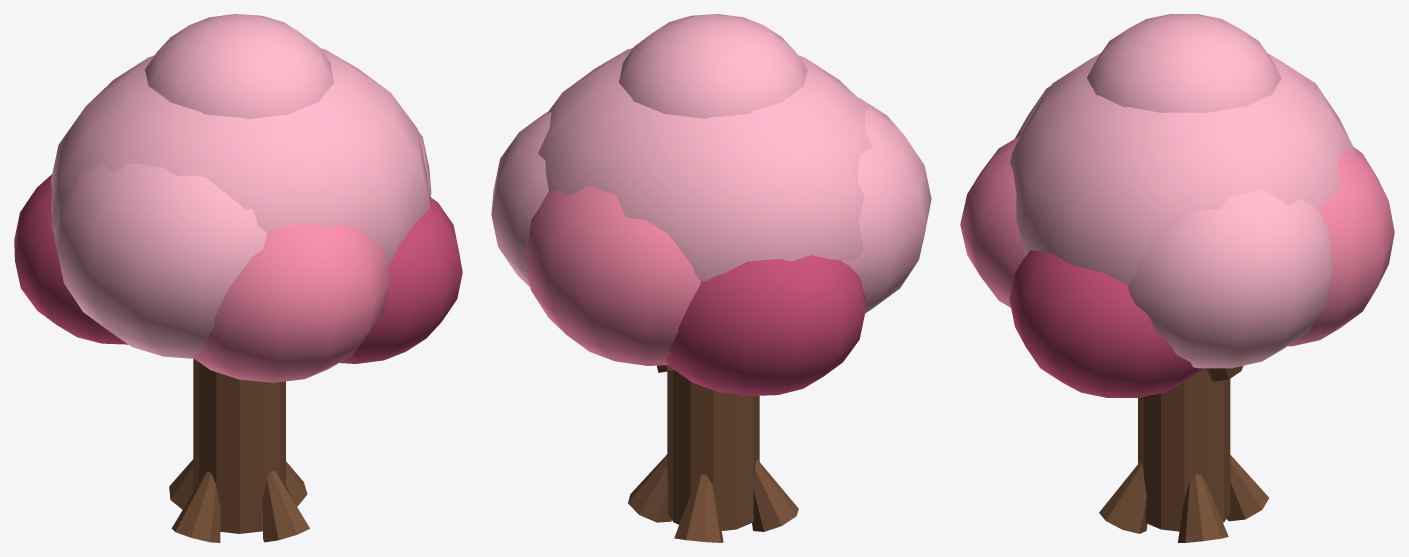
The model's file is tree_cherry.glb.
3 renders of one model, left to right at view 1: azimuth 30°, elevation 25°; view 2: azimuth 150°, elevation 25°; view 3: azimuth 270°, elevation 25°, orthographic.
Visible parts, largest first — view 1: FoliagePuff_0, FoliagePuff_2, FoliagePuff_4, FoliagePuff_7, TrunkBase, FoliagePuff_5, FoliagePuff_6, Root_2, Root_3, Root_1, Root_0; view 2: FoliagePuff_0, FoliagePuff_3, FoliagePuff_6, FoliagePuff_7, TrunkBase, FoliagePuff_2, FoliagePuff_1, Root_1, Root_2, Root_0; view 3: FoliagePuff_0, FoliagePuff_1, FoliagePuff_5, FoliagePuff_7, TrunkBase, FoliagePuff_3, FoliagePuff_4, Root_0, Root_3, Root_1.
Part boxes in pixels (x1,y1,x2,y2): FoliagePuff_0: (51,48,429,265); FoliagePuff_2: (52,163,266,358); FoliagePuff_4: (191,223,390,382); FoliagePuff_7: (144,14,334,119); TrunkBase: (193,359,285,533); FoliagePuff_5: (340,196,462,363); FoliagePuff_6: (14,174,127,344); Root_2: (171,471,220,542); Root_3: (262,470,309,542); Root_1: (169,459,193,509); Root_0: (286,461,307,506); FoliagePuff_0: (538,48,871,281); FoliagePuff_3: (524,186,700,365); FoliagePuff_6: (666,255,865,395); FoliagePuff_7: (618,14,807,118); TrunkBase: (667,370,759,530); FoliagePuff_2: (841,97,931,313); FoliagePuff_1: (491,111,551,286); Root_1: (674,474,723,542); Root_2: (752,460,798,531); Root_0: (628,454,671,522); FoliagePuff_0: (1010,53,1356,285); FoliagePuff_1: (1127,190,1333,368); FoliagePuff_5: (1009,250,1203,397); FoliagePuff_7: (1087,14,1281,112); TrunkBase: (1138,368,1230,531); FoliagePuff_3: (1288,147,1394,346); FoliagePuff_4: (960,136,1025,307); Root_0: (1178,474,1228,542); Root_3: (1099,461,1147,533); Root_1: (1226,455,1268,521).
Size of the model in its own units: 4.59 by 5.89 by 4.65.
